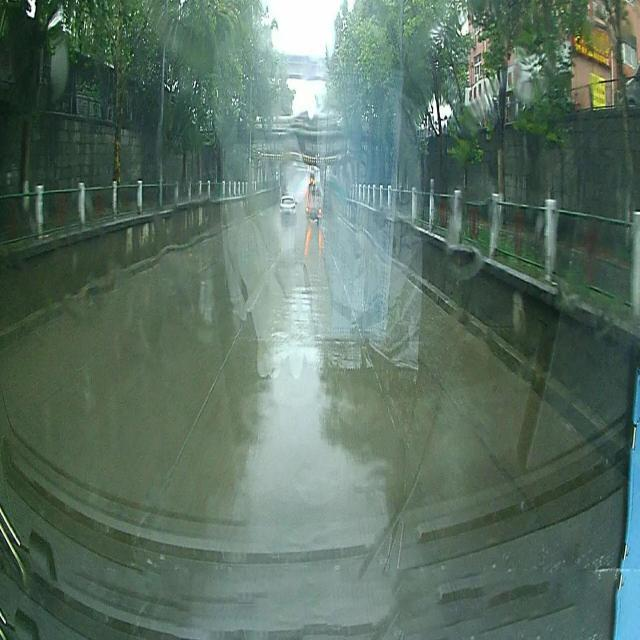car: (280, 196, 296, 218)
